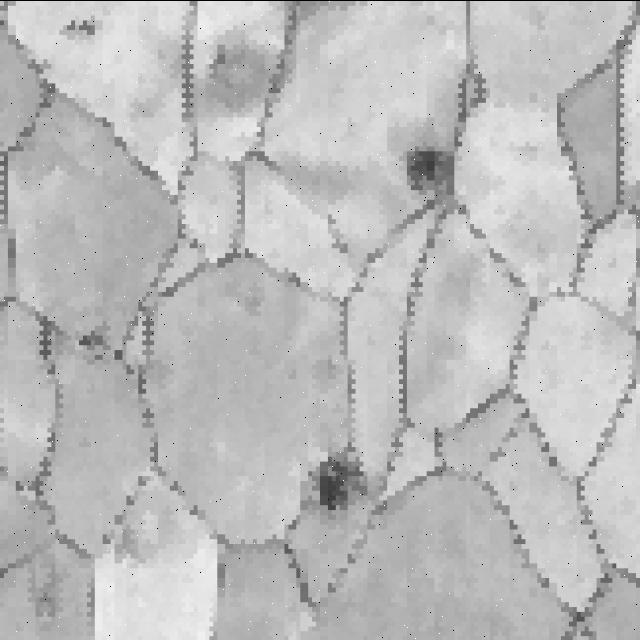good_void: (198, 36, 273, 121), (312, 437, 369, 534), (402, 131, 464, 214), (71, 327, 116, 355), (58, 15, 99, 42)
